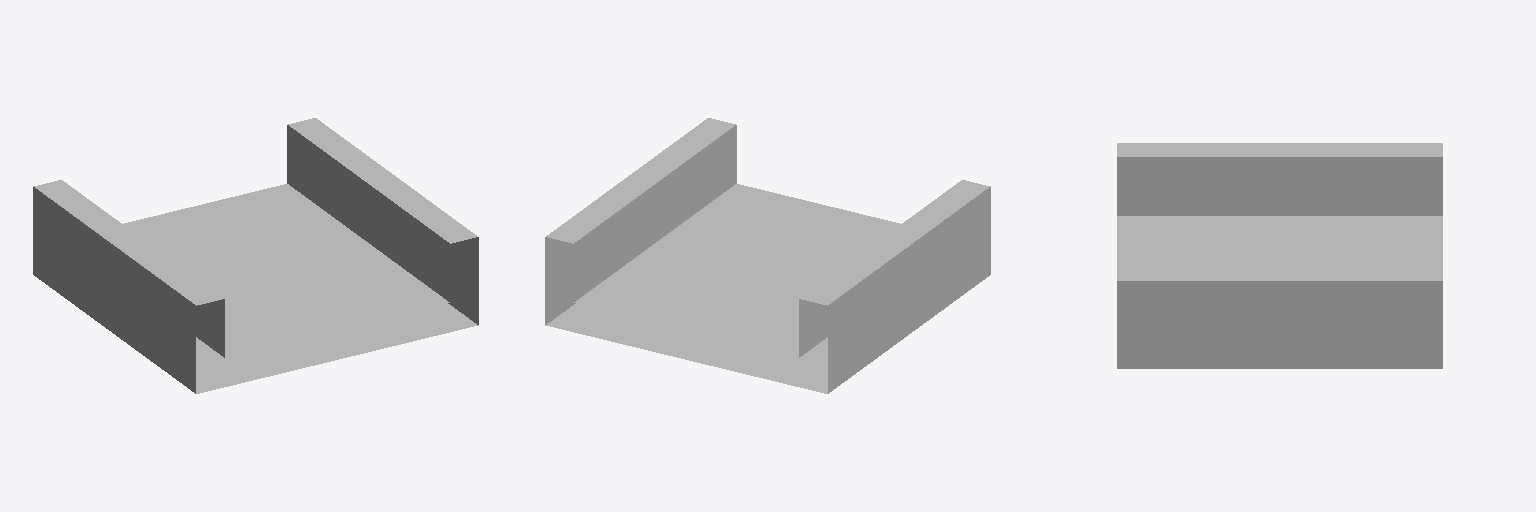
Rendered from track-road-narrow.obj.
The picture shows the model from 3 angles: view 1: azimuth 30°, elevation 25°; view 2: azimuth 150°, elevation 25°; view 3: azimuth 270°, elevation 25°; orthographic projection.
Visible parts, largest first — view 1: track-road-narrow; view 2: track-road-narrow; view 3: track-road-narrow.
Boxes of the visible parts, x1=… form: track-road-narrow: x1=33, y1=118, x2=478, y2=393; track-road-narrow: x1=545, y1=118, x2=990, y2=393; track-road-narrow: x1=1117, y1=143, x2=1442, y2=368.
Bounding box in the file's own units: 1 × 0.3 × 1.